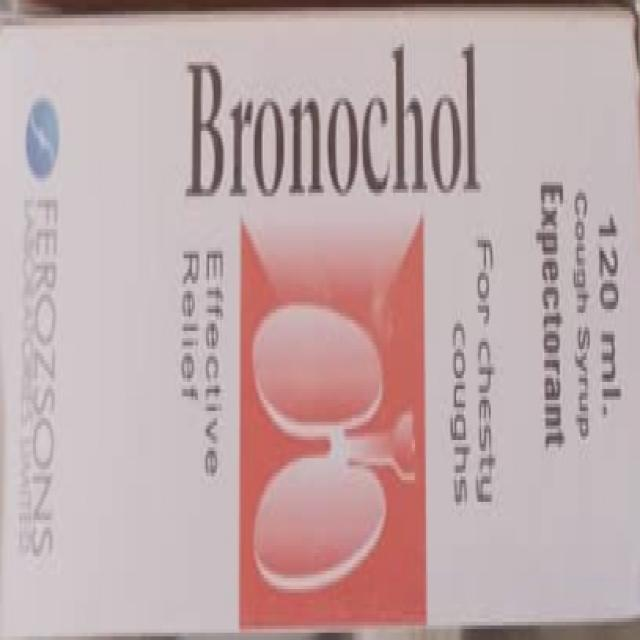drug-name: (186, 48, 492, 208)
